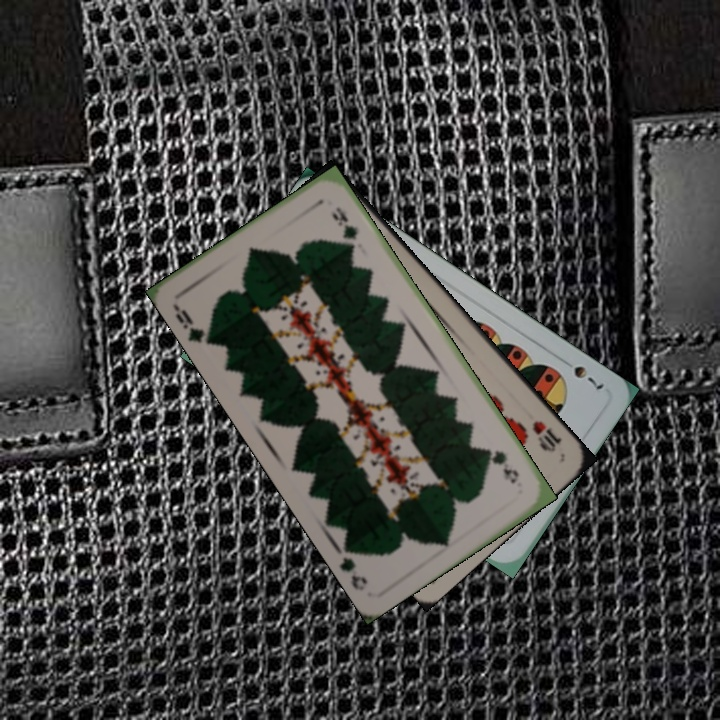G9: (170, 300, 219, 348), (483, 444, 522, 486)
H10: (528, 416, 565, 455)
S7: (569, 361, 607, 393)
